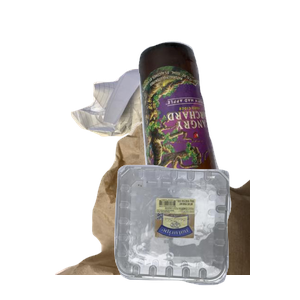glass: (136, 39, 300, 219)
paper: (68, 66, 215, 197)
plastic: (112, 162, 300, 300)
trash: (52, 120, 292, 300)
